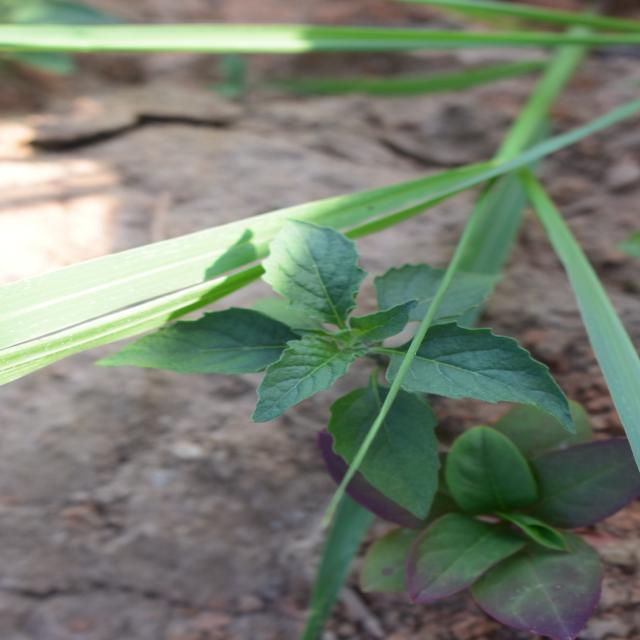Black_nightshade: (208, 180, 414, 532)
